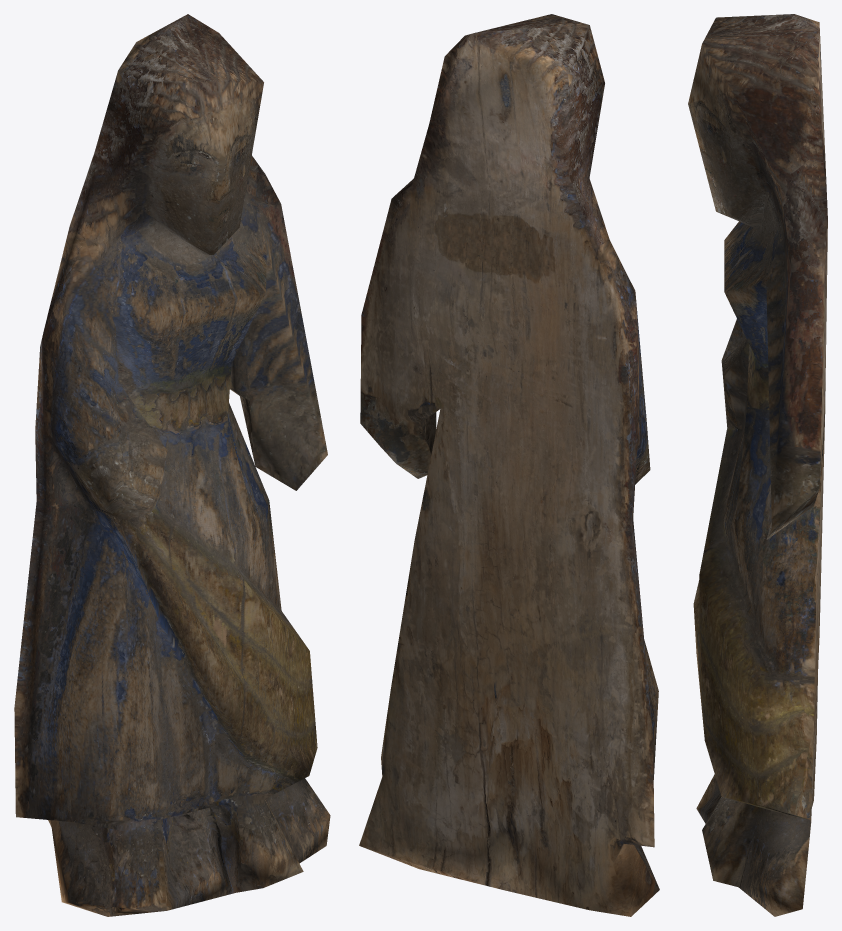
The model's file is Statue.obj.
3 views of the same model, side by side, from view 1: azimuth 30°, elevation 25°; view 2: azimuth 150°, elevation 25°; view 3: azimuth 270°, elevation 25° (orthographic). The views are drawn at different scales.
Visible parts, largest first — view 1: Statue; view 2: Statue; view 3: Statue.
Boxes of the visible parts, box(x1,y1,x2,y2) form: Statue: box(14, 14, 330, 916); Statue: box(359, 14, 659, 916); Statue: box(688, 14, 827, 916).
Size of the model in its own units: 1.2 by 3.3 by 0.5.
1 material, 1 textured.
